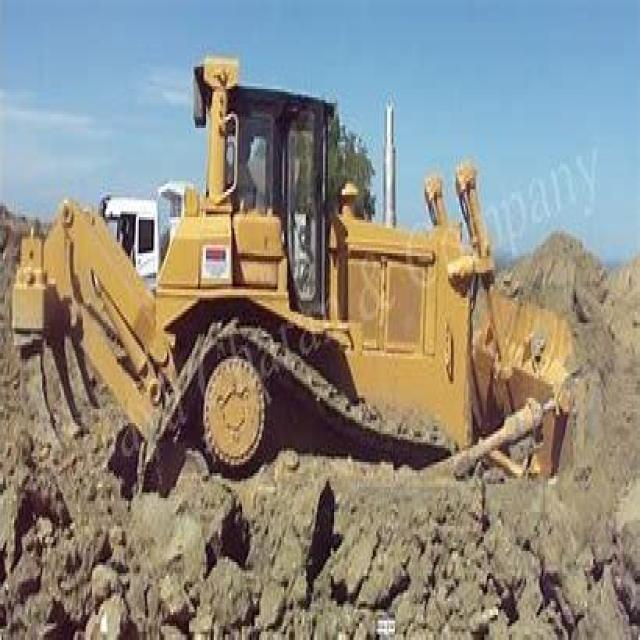buldozerpayloadergrader: (8, 39, 598, 543)
